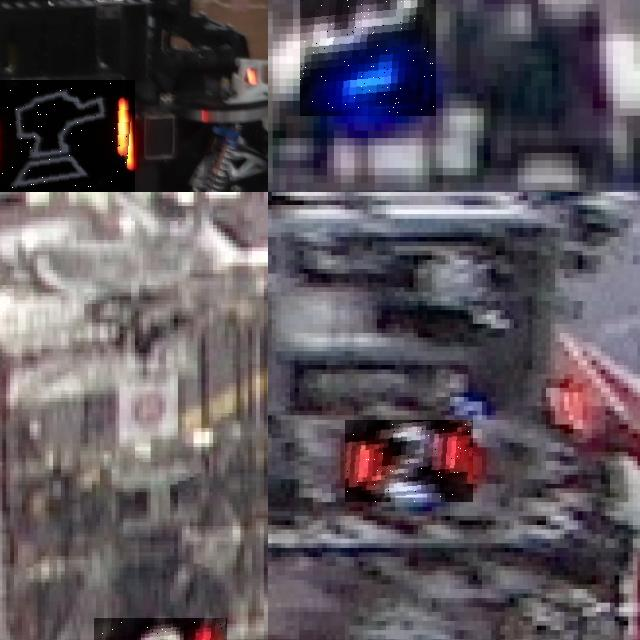B3: (300, 0, 436, 115)
R2: (345, 420, 473, 502), (94, 618, 226, 640)
Rs: (0, 80, 134, 192)
